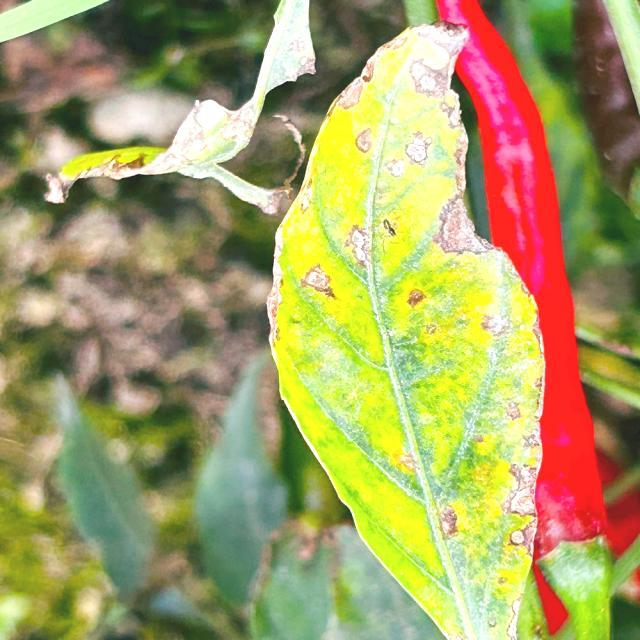Bercak Daun Serkospora: (266, 20, 550, 640)
